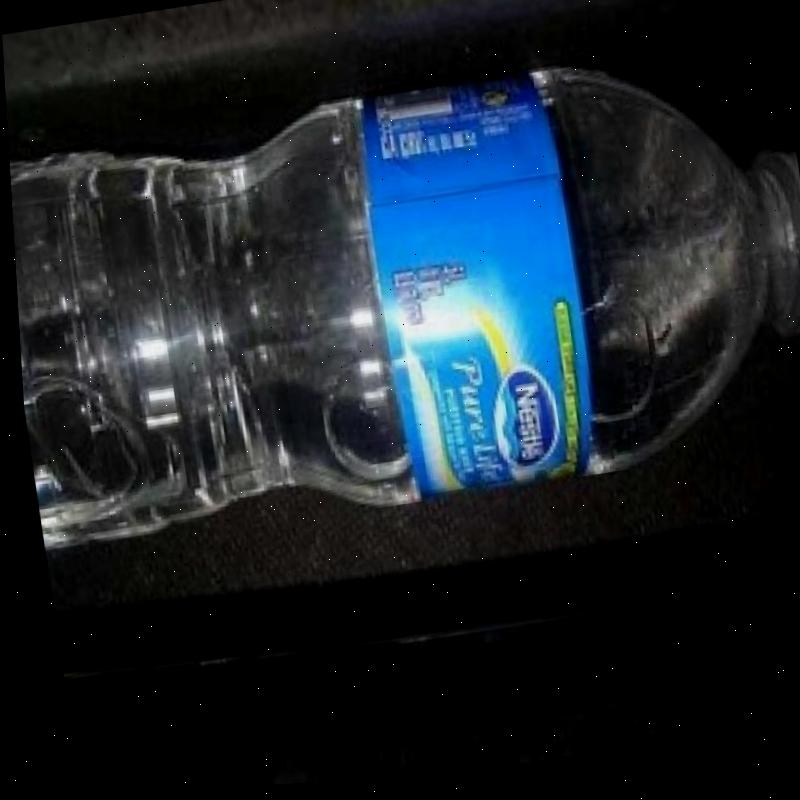botella: (4, 38, 800, 561)
